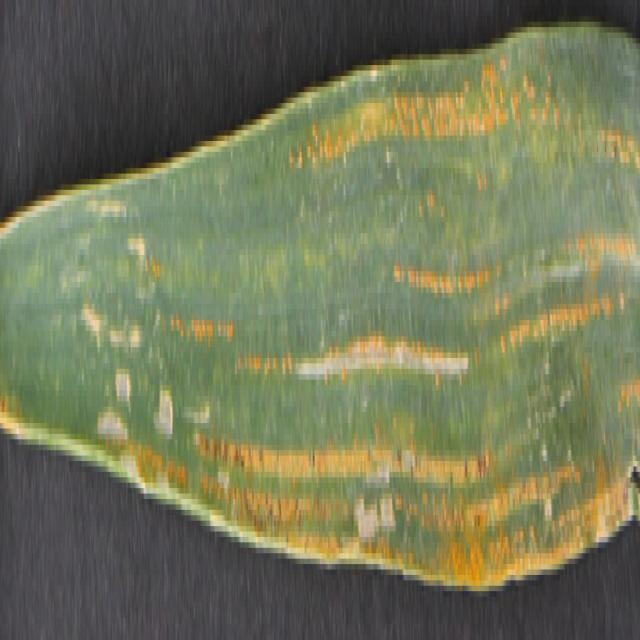leaf rust: (106, 65, 638, 580)
